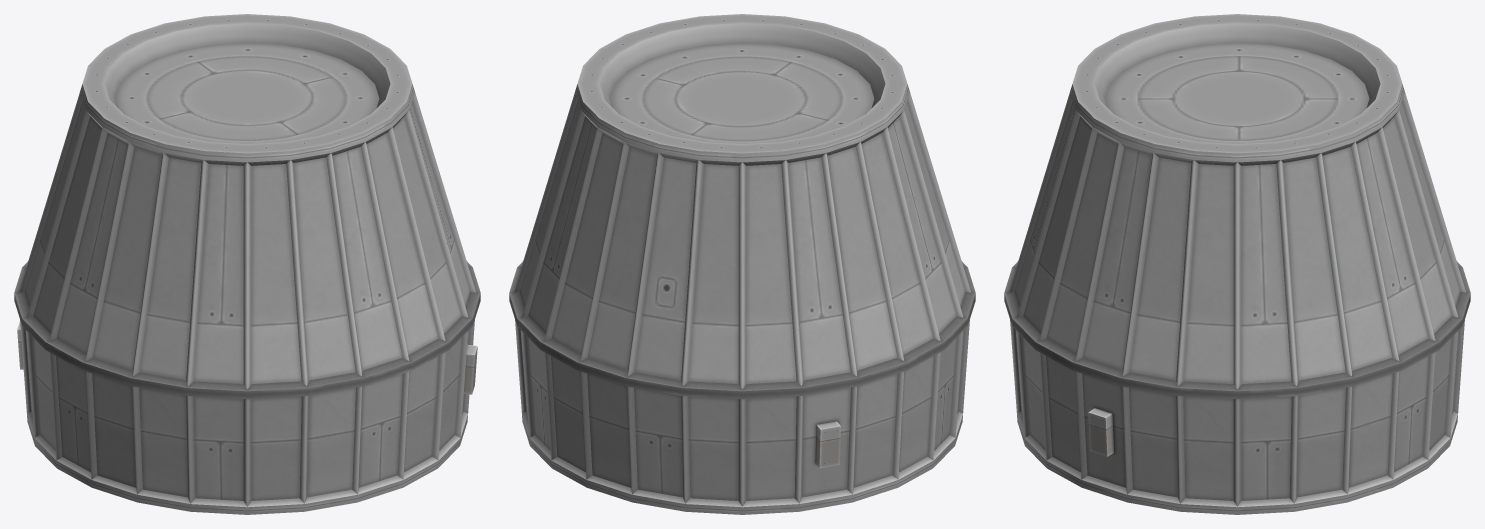
The model's file is Hamal_Control_1.obj.
The picture shows the model from 3 angles, left to right: view 1: azimuth 30°, elevation 25°; view 2: azimuth 150°, elevation 25°; view 3: azimuth 270°, elevation 25°; orthographic projection.
Parts seen in each view (by area): view 1: Hamal_Control_1; view 2: Hamal_Control_1; view 3: Hamal_Control_1.
Boxes of the visible parts, x1,y1,x2,y2 form: Hamal_Control_1: (14,14,480,514); Hamal_Control_1: (509,14,975,514); Hamal_Control_1: (1004,14,1470,514).
Bounding box in the file's own units: 1.32 × 1.06 × 1.33.
